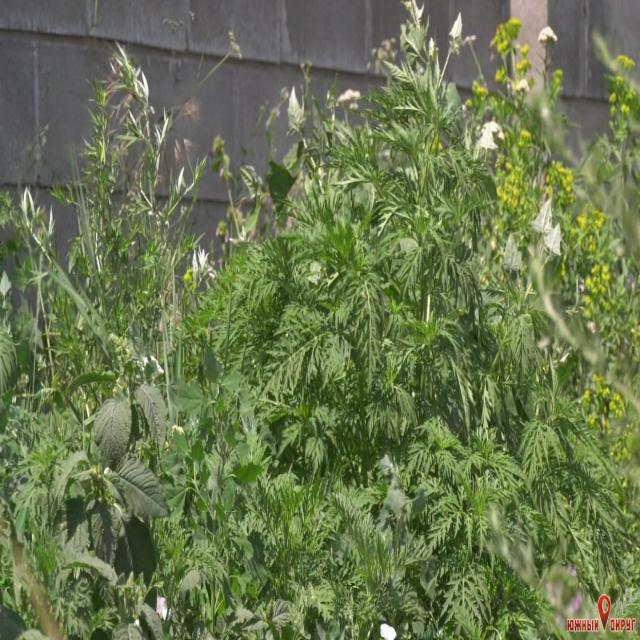ambrosia: (368, 69, 496, 419), (494, 336, 627, 585), (242, 217, 369, 437), (393, 394, 500, 634)
